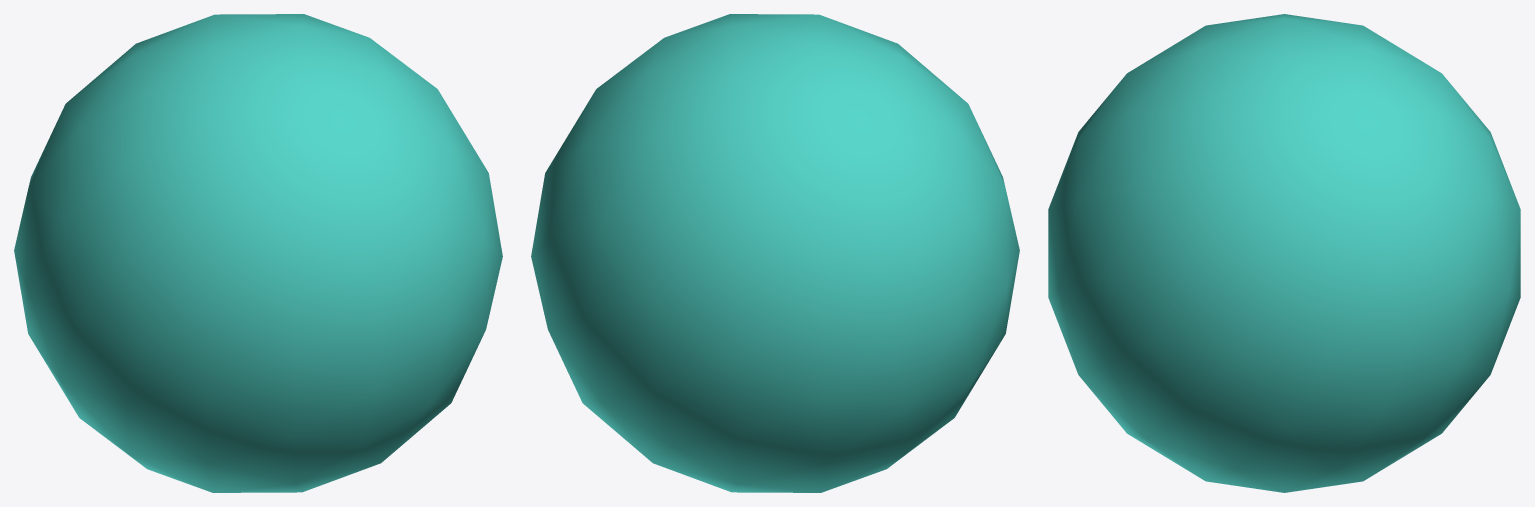
File: showcase.glb
3 views of the same model, side by side, from view 1: azimuth 30°, elevation 25°; view 2: azimuth 150°, elevation 25°; view 3: azimuth 270°, elevation 25° (orthographic).
Visible parts, largest first — view 1: ShowcaseGem; view 2: ShowcaseGem; view 3: ShowcaseGem.
Boxes of the visible parts, x1,y1,x2,y2 form: ShowcaseGem: [14, 14, 502, 492]; ShowcaseGem: [531, 14, 1019, 492]; ShowcaseGem: [1048, 14, 1520, 492].
Bounding box in the file's own units: 1.96 × 1.96 × 1.96.
